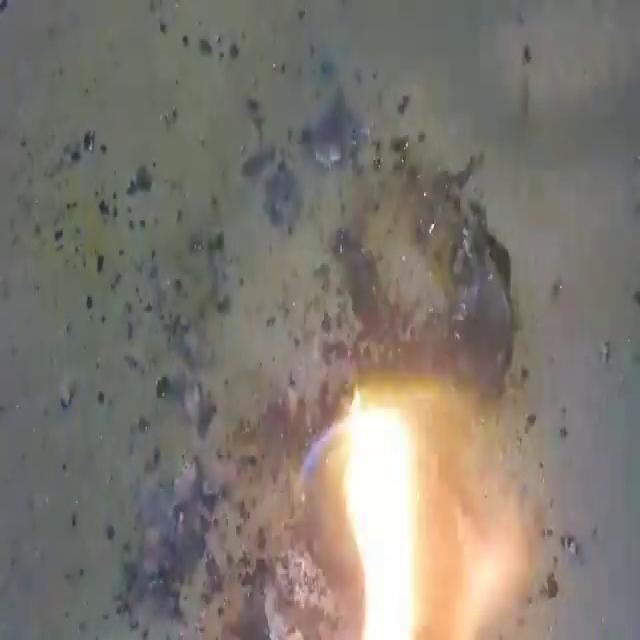Fire: (295, 366, 533, 638), (338, 389, 424, 636)
